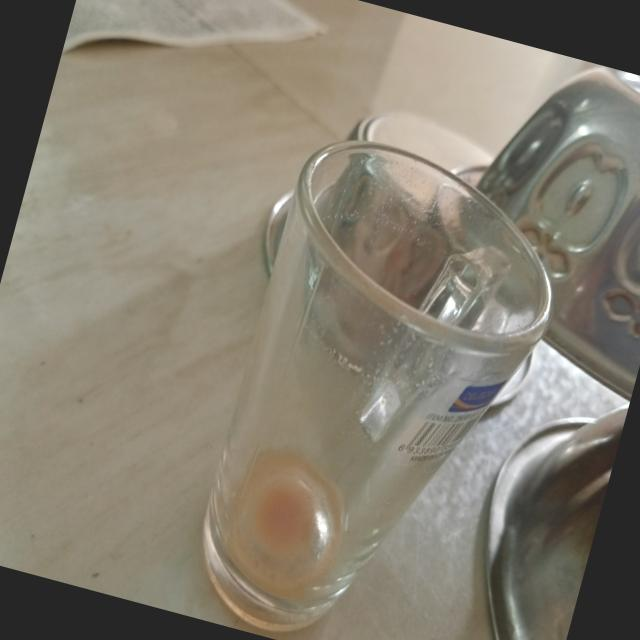glass-VX4N: (177, 124, 581, 640)
